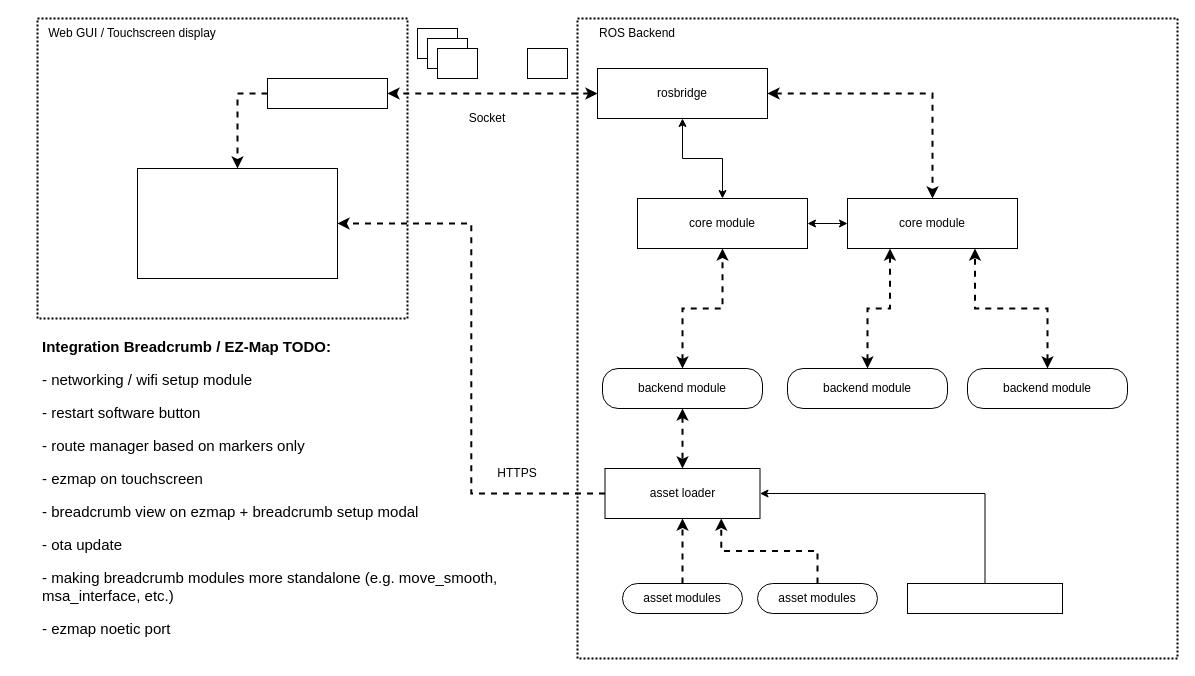
The diagram is 1195 pixels wide and 676 high, and some of its shapes have lost their labels. Each missing label, with the centre of its shape:
"core assets" goes at [984,598].
"roslibjs" goes at [327,93].
"web core" goes at [237,223].
